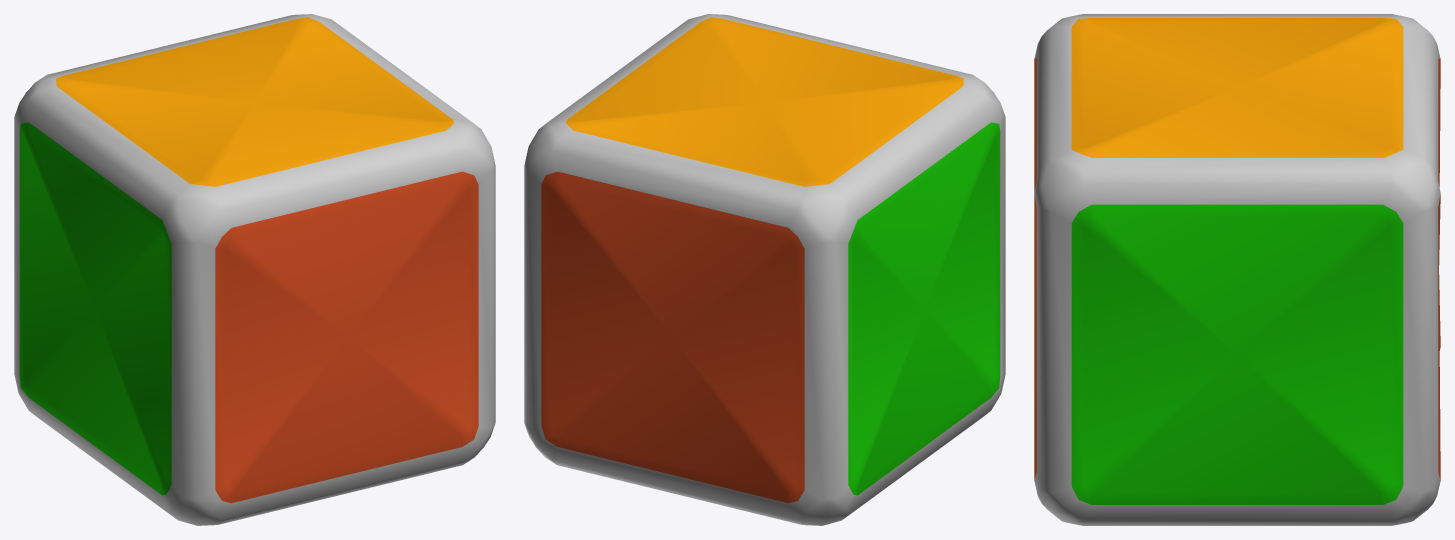
The model's file is D_FBX_06_Bumper_01_C.fbx.
3 views of the same model, side by side, from view 1: azimuth 30°, elevation 25°; view 2: azimuth 150°, elevation 25°; view 3: azimuth 270°, elevation 25° (orthographic). The views are drawn at different scales.
Visible parts, largest first — view 1: D_FBX_06_Bumper_01_C; view 2: D_FBX_06_Bumper_01_C; view 3: D_FBX_06_Bumper_01_C.
Boxes of the visible parts, x1=… form: D_FBX_06_Bumper_01_C: x1=14, y1=14, x2=495, y2=525; D_FBX_06_Bumper_01_C: x1=524, y1=14, x2=1005, y2=525; D_FBX_06_Bumper_01_C: x1=1034, y1=14, x2=1440, y2=525.
Size of the model in its own units: 2.03 by 2.03 by 2.03.
